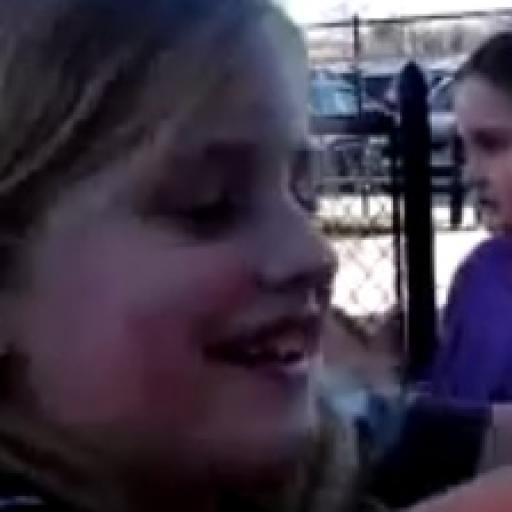Autism: (0, 0, 378, 512)
